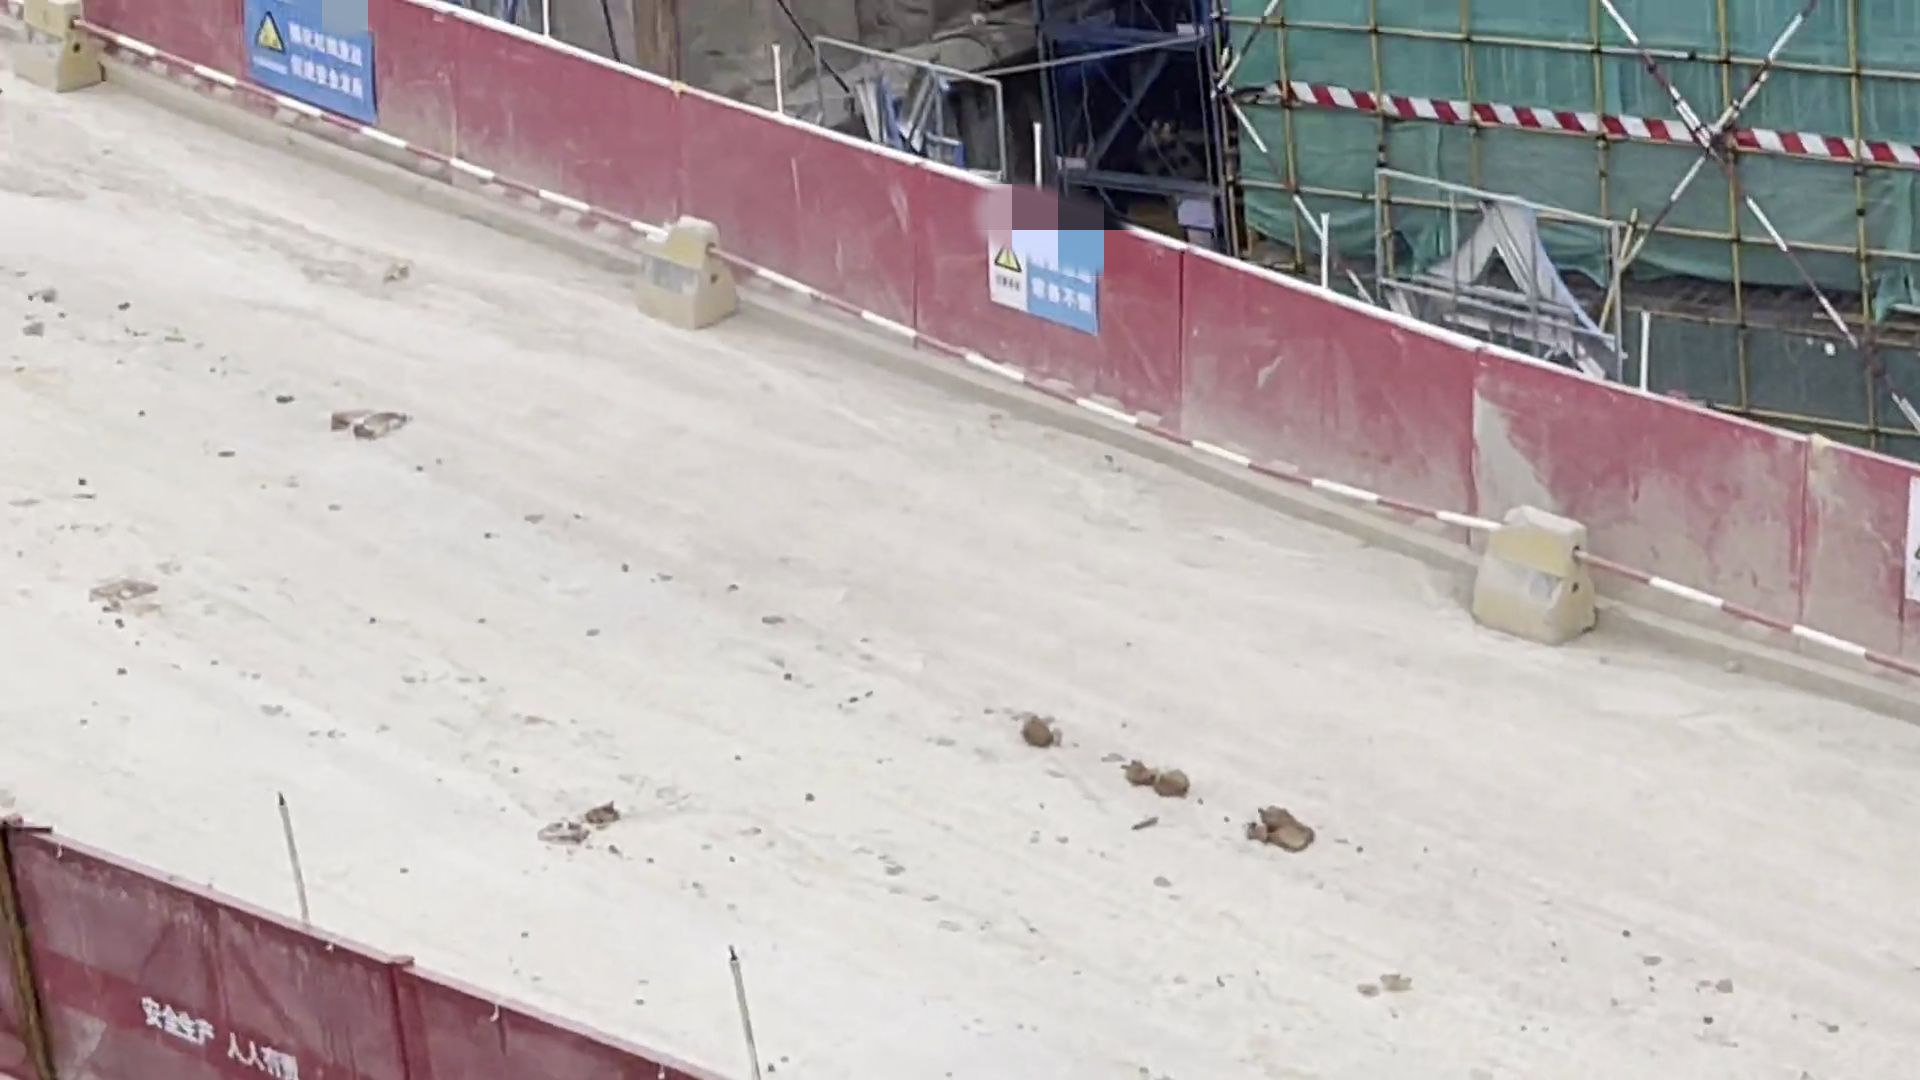fence: (1, 1, 1873, 439), (1, 802, 736, 1065)
slogan: (986, 218, 1104, 328), (262, 1, 372, 107)
